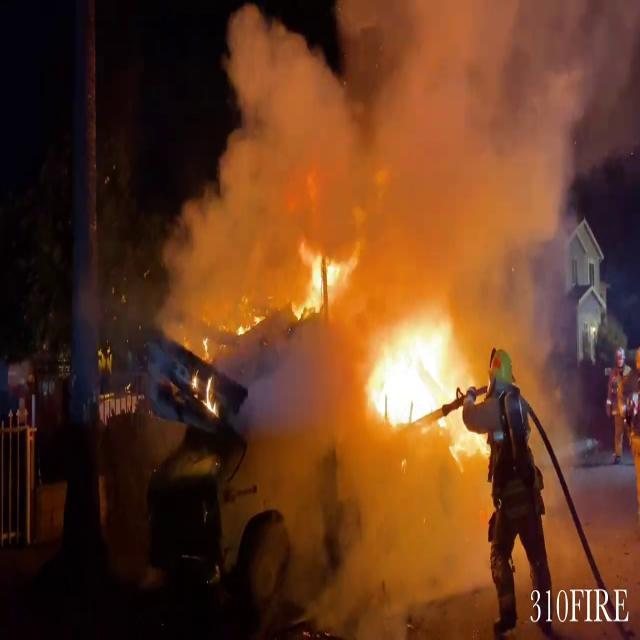Fire: (358, 304, 482, 439)
Smoke: (147, 0, 624, 356)
